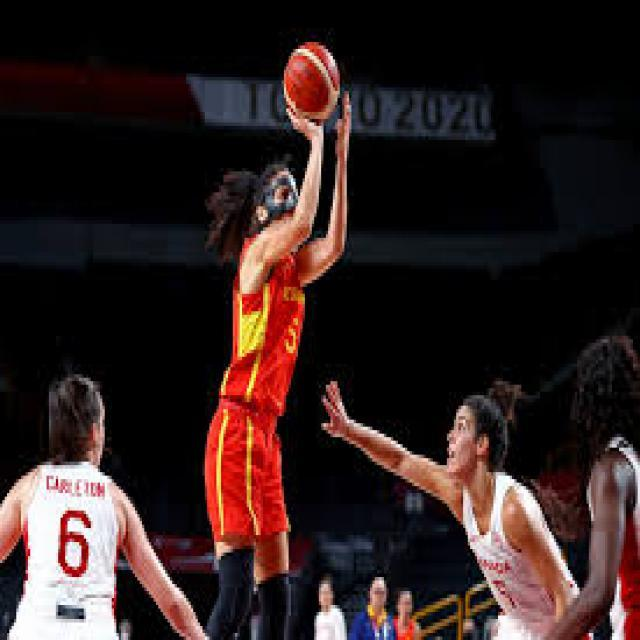basketball: (282, 42, 342, 126)
